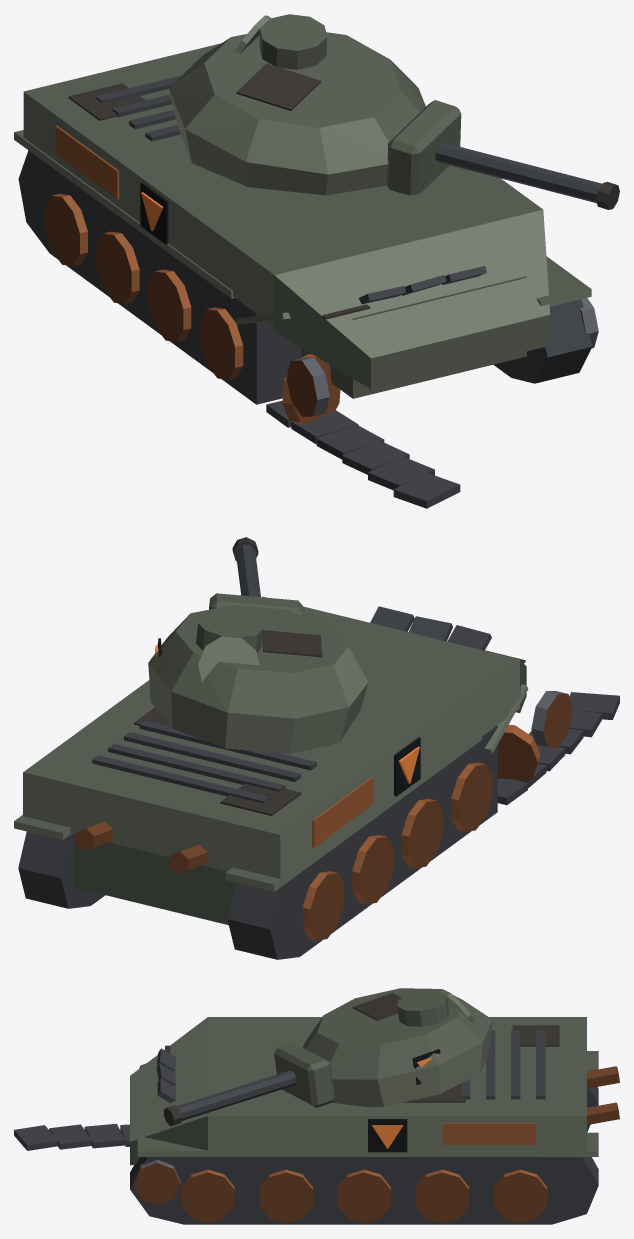
The model's file is tank_wreck.glb.
The picture shows the model from 3 angles, top to bottom: view 1: azimuth 30°, elevation 25°; view 2: azimuth 150°, elevation 25°; view 3: azimuth 270°, elevation 25°; orthographic projection. The views are drawn at different scales.
Parts seen in each view (by area): view 1: LOD0; view 2: LOD0; view 3: LOD0.
Part boxes in pixels (bbox=[...]): LOD0: bbox=[14, 14, 619, 508]; LOD0: bbox=[14, 537, 619, 959]; LOD0: bbox=[14, 988, 619, 1224].
Size of what is drawn, in the model's own units: 3.67 by 2.7 by 7.76.
Materials: 1 (1 with a texture image).
